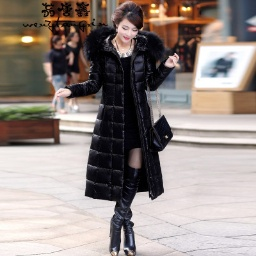face: (110, 2, 143, 47)
